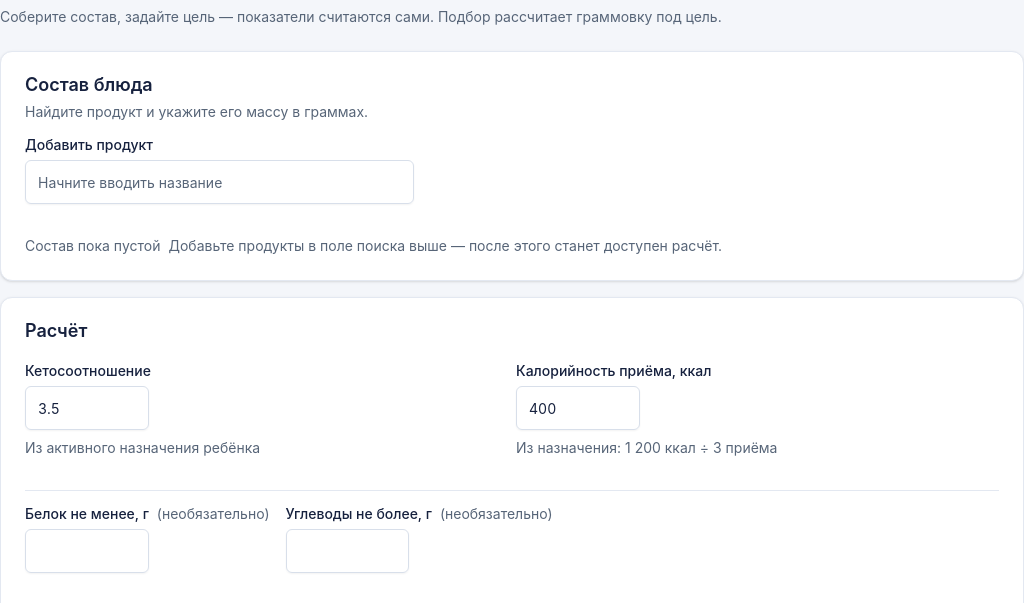
Scenario: калькулятор › сбой проверки можно повторить — без фиктивной правки состава
Type "масло" into the dropdown labelled "Добавить продукт" at (219, 182), box top-left (25, 160), bottom-right (414, 204)
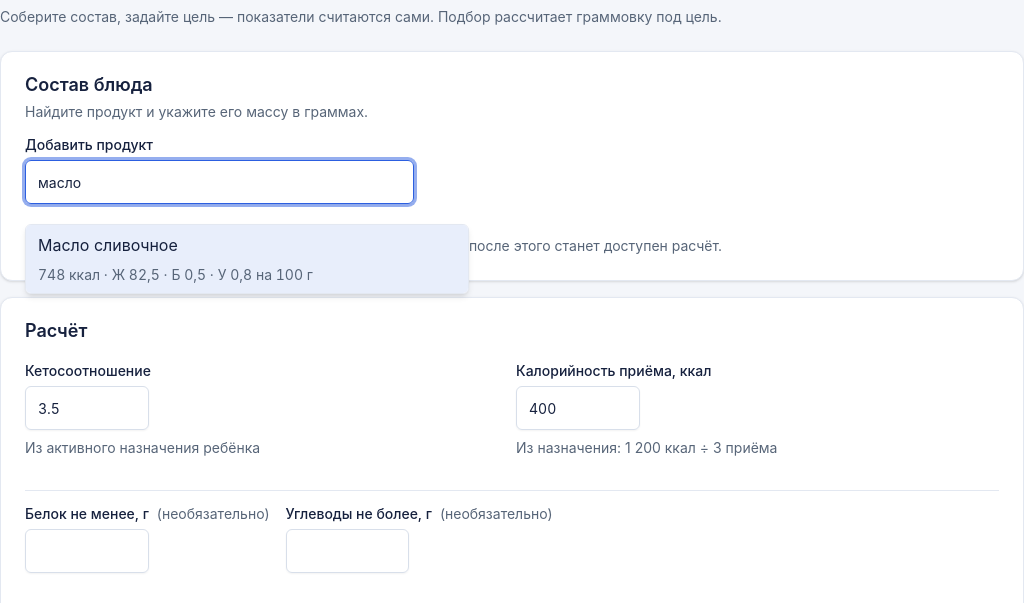
Click the option "Масло сливочное 748 ккал · Ж 82,5 · Б 0,5 · У 0,8 на 100 г" at (108, 245), box top-left (26, 225), bottom-right (468, 293)
(page scrolled)
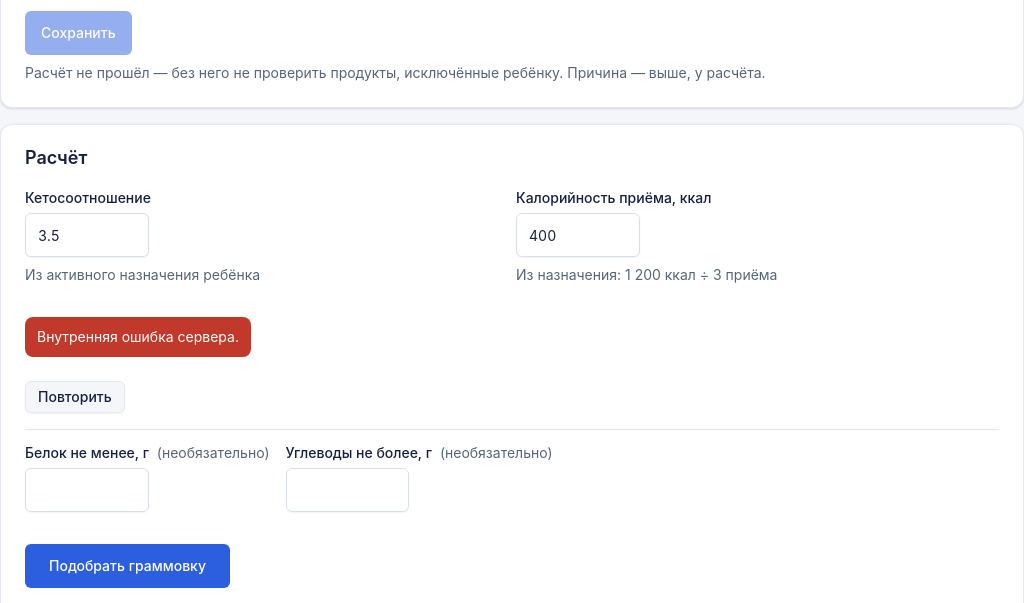
Click the button "Повторить" at (75, 397), box top-left (25, 381), bottom-right (125, 413)
(page scrolled)
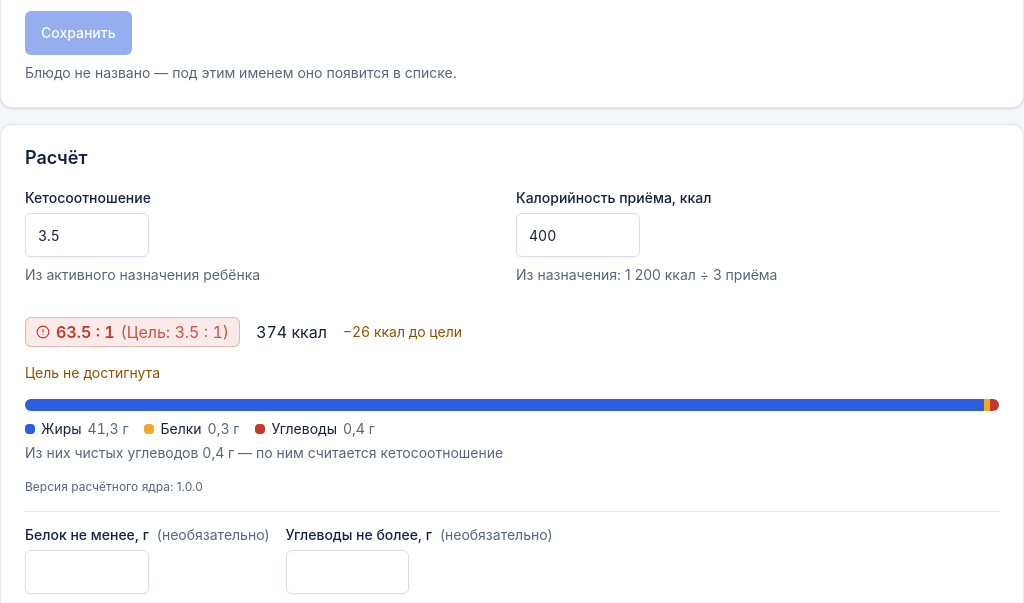
Result: the text "374 ккал" is shown at top-left (256, 320), bottom-right (327, 344)
Result: the text "Внутренняя ошибка сервера." is gone
